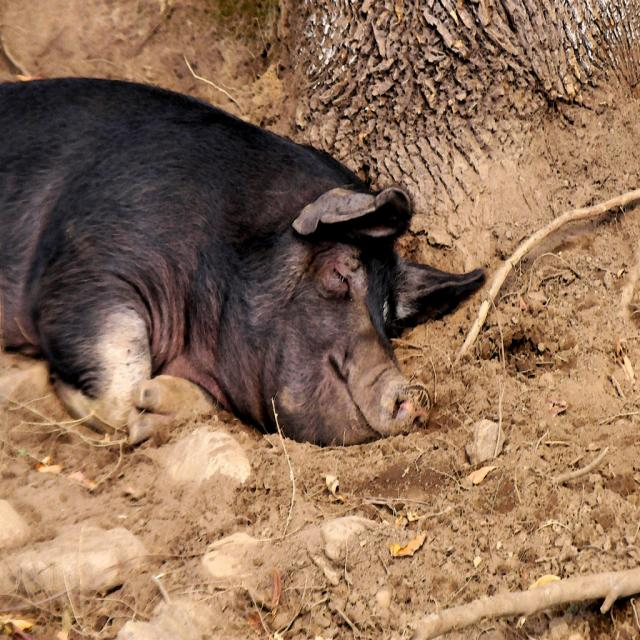Pig: (0, 76, 488, 446)
